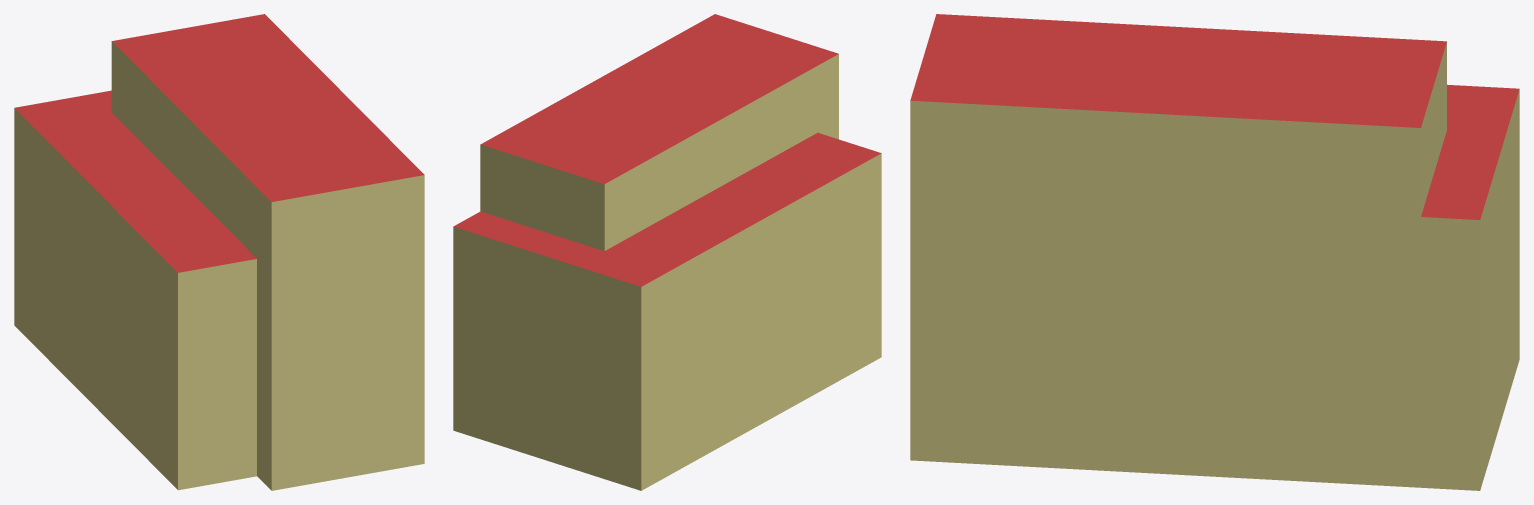
3 views of the same model, side by side, from view 1: azimuth 30°, elevation 25°; view 2: azimuth 150°, elevation 25°; view 3: azimuth 270°, elevation 25° (orthographic). The views are drawn at different scales.
Parts seen in each view (by area): view 1: group_4, group_7, group_3, group_6; view 2: group_7, group_3, group_4, group_6; view 3: group_4, group_3, group_7, group_6.
Part boxes in pixels (<box>): group_4: <box>111,41,424,490</box>; group_7: <box>14,108,256,490</box>; group_3: <box>112,14,424,201</box>; group_6: <box>14,90,256,272</box>; group_7: <box>453,153,881,490</box>; group_3: <box>481,14,838,184</box>; group_4: <box>480,54,838,250</box>; group_6: <box>453,132,881,286</box>; group_4: <box>910,42,1446,487</box>; group_3: <box>910,14,1446,127</box>; group_7: <box>1421,89,1519,490</box>; group_6: <box>1421,84,1519,219</box>.
Bounding box in the file's own units: 10.49 × 16.94 × 11.04.
